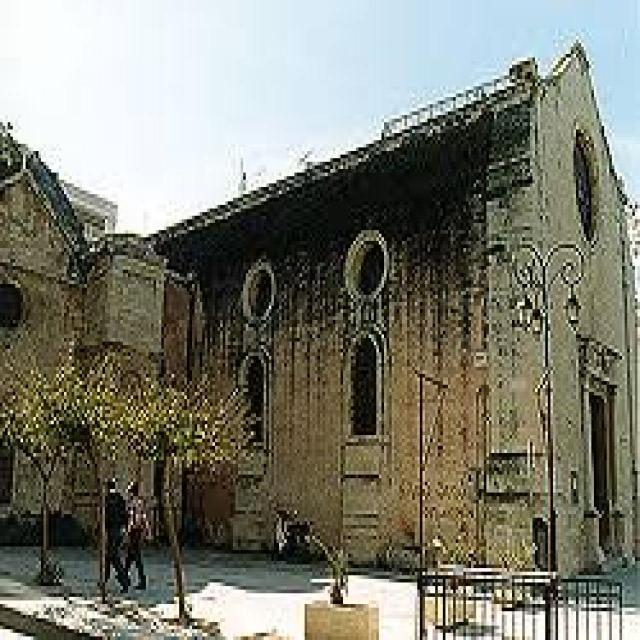Agia Aikaterini: (2, 51, 634, 579)
